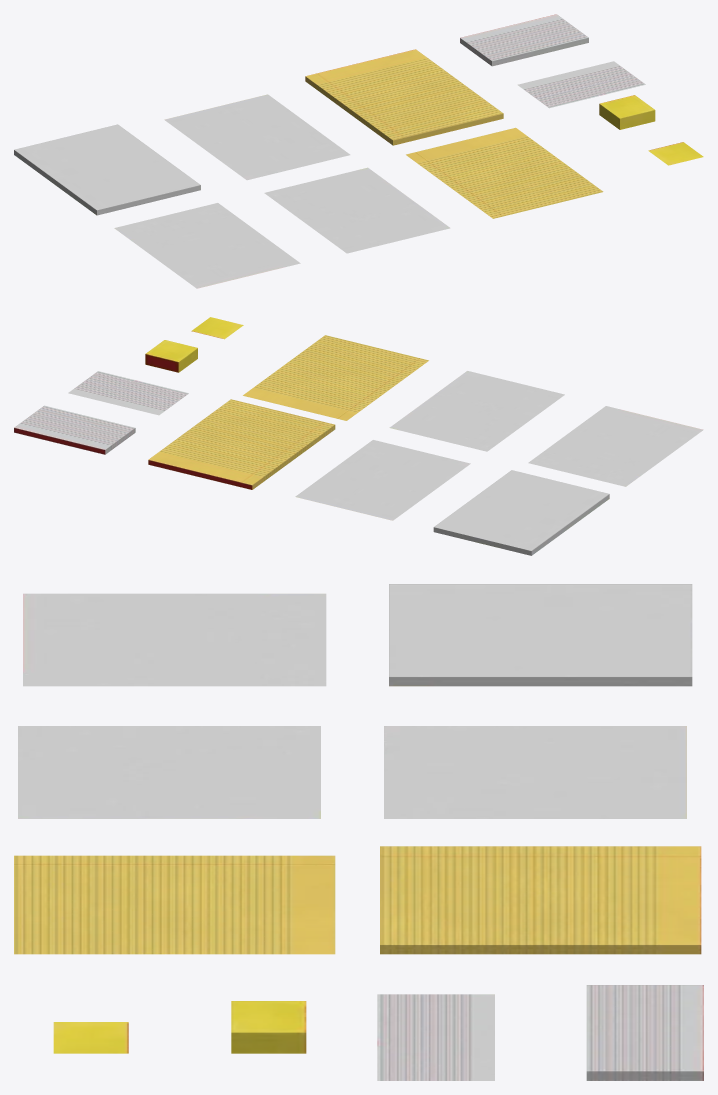
The model's file is office_notepads.glb.
3 renders of one model, top to bottom at view 1: azimuth 30°, elevation 25°; view 2: azimuth 150°, elevation 25°; view 3: azimuth 270°, elevation 25°, orthographic. The views are drawn at different scales.
Parts seen in each view (by area): view 1: office_notepads_yellow_pad, office_notepads_yellow_sheet, office_notepads_a4_stack, office_notepads_a4_a, office_notepads_a4_b, office_notepads_a4_c, office_notepads_note_stack, office_notepads_note_sheet, office_notepads_sticky_stack, office_notepads_sticky_sheet; view 2: office_notepads_yellow_pad, office_notepads_yellow_sheet, office_notepads_a4_stack, office_notepads_a4_b, office_notepads_a4_c, office_notepads_a4_a, office_notepads_note_stack, office_notepads_note_sheet, office_notepads_sticky_stack, office_notepads_sticky_sheet; view 3: office_notepads_yellow_pad, office_notepads_yellow_sheet, office_notepads_a4_stack, office_notepads_a4_a, office_notepads_a4_b, office_notepads_a4_c, office_notepads_note_stack, office_notepads_note_sheet, office_notepads_sticky_stack, office_notepads_sticky_sheet.
Boxes of the visible parts, x1=… form: office_notepads_yellow_pad: x1=305, y1=49, x2=503, y2=145; office_notepads_yellow_sheet: x1=406, y1=127, x2=603, y2=218; office_notepads_a4_stack: x1=14, y1=124, x2=200, y2=215; office_notepads_a4_a: x1=114, y1=203, x2=300, y2=288; office_notepads_a4_b: x1=164, y1=94, x2=350, y2=180; office_notepads_a4_c: x1=264, y1=167, x2=450, y2=253; office_notepads_note_stack: x1=460, y1=14, x2=588, y2=66; office_notepads_note_sheet: x1=517, y1=61, x2=645, y2=108; office_notepads_sticky_stack: x1=599, y1=95, x2=655, y2=129; office_notepads_sticky_sheet: x1=648, y1=142, x2=703, y2=165; office_notepads_yellow_pad: x1=148, y1=399, x2=335, y2=489; office_notepads_yellow_sheet: x1=243, y1=335, x2=428, y2=420; office_notepads_a4_stack: x1=433, y1=470, x2=609, y2=555; office_notepads_a4_b: x1=295, y1=440, x2=470, y2=520; office_notepads_a4_c: x1=389, y1=371, x2=564, y2=451; office_notepads_a4_a: x1=528, y1=406, x2=703, y2=486; office_notepads_note_stack: x1=14, y1=405, x2=135, y2=454; office_notepads_note_sheet: x1=68, y1=371, x2=188, y2=415; office_notepads_sticky_stack: x1=145, y1=340, x2=197, y2=372; office_notepads_sticky_sheet: x1=191, y1=317, x2=243, y2=339; office_notepads_yellow_pad: x1=380, y1=846, x2=701, y2=954; office_notepads_yellow_sheet: x1=14, y1=855, x2=335, y2=954; office_notepads_a4_stack: x1=389, y1=584, x2=692, y2=686; office_notepads_a4_a: x1=23, y1=593, x2=326, y2=686; office_notepads_a4_b: x1=384, y1=726, x2=686, y2=818; office_notepads_a4_c: x1=18, y1=726, x2=320, y2=818; office_notepads_note_stack: x1=586, y1=985, x2=703, y2=1080; office_notepads_note_sheet: x1=377, y1=994, x2=494, y2=1080; office_notepads_sticky_stack: x1=231, y1=1001, x2=306, y2=1053; office_notepads_sticky_sheet: x1=53, y1=1022, x2=128, y2=1053.
Size of the model in its own units: 1.1 by 0.022 by 0.6598.
Materials: 1 (1 with a texture image).
